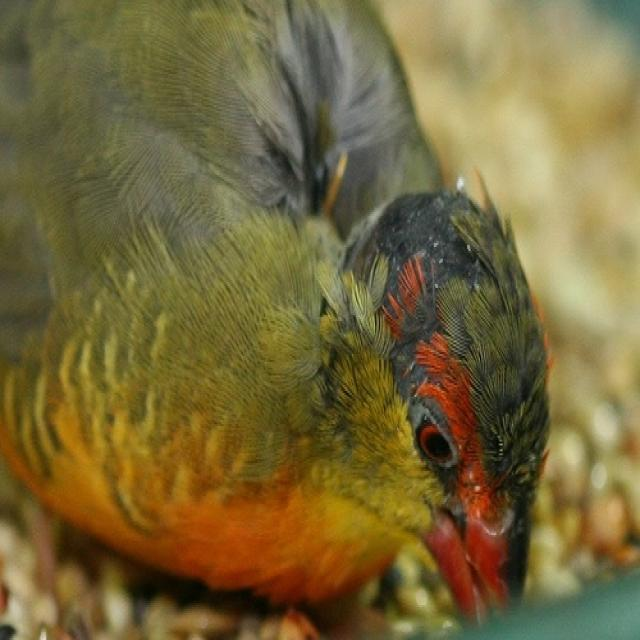bird: (4, 5, 554, 637)
